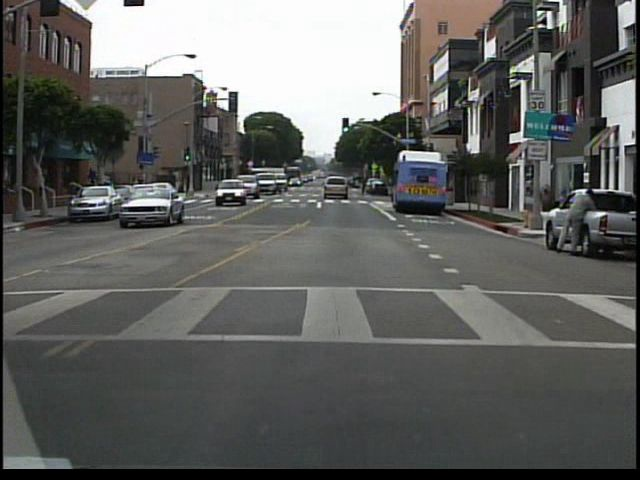person: (553, 184, 603, 259)
